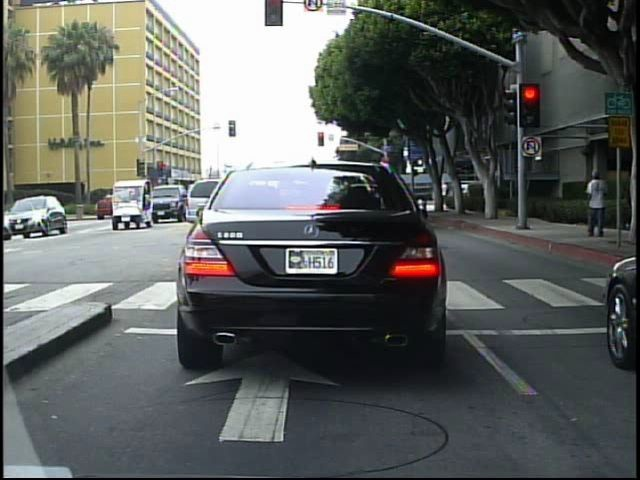person: (583, 163, 614, 240), (481, 176, 496, 218), (437, 179, 451, 213), (629, 165, 631, 252)
